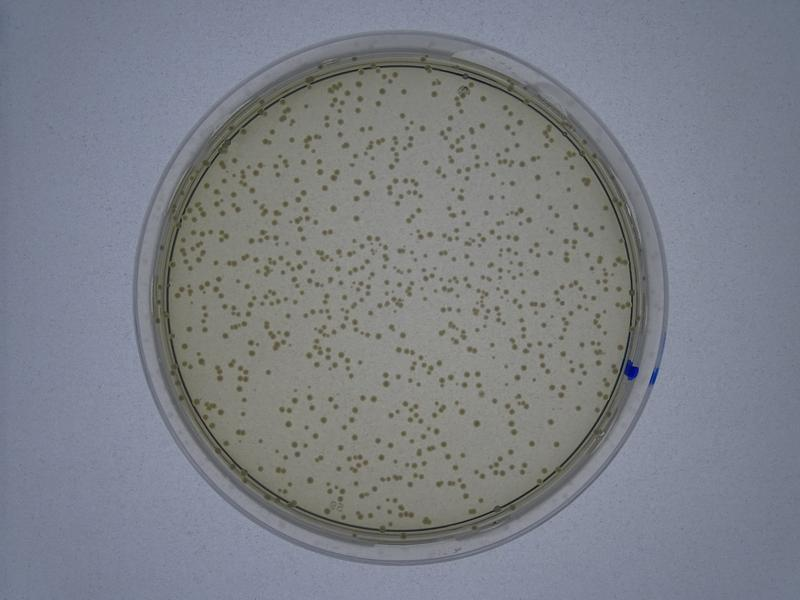colony: (327, 201, 338, 214), (485, 190, 495, 202), (263, 368, 275, 377), (377, 453, 387, 463), (472, 418, 481, 429), (284, 419, 293, 430), (532, 268, 543, 277), (546, 418, 556, 427), (570, 202, 580, 211), (369, 394, 377, 405), (351, 213, 361, 221), (220, 332, 229, 340), (291, 177, 301, 184), (399, 332, 407, 340), (422, 158, 428, 166)
